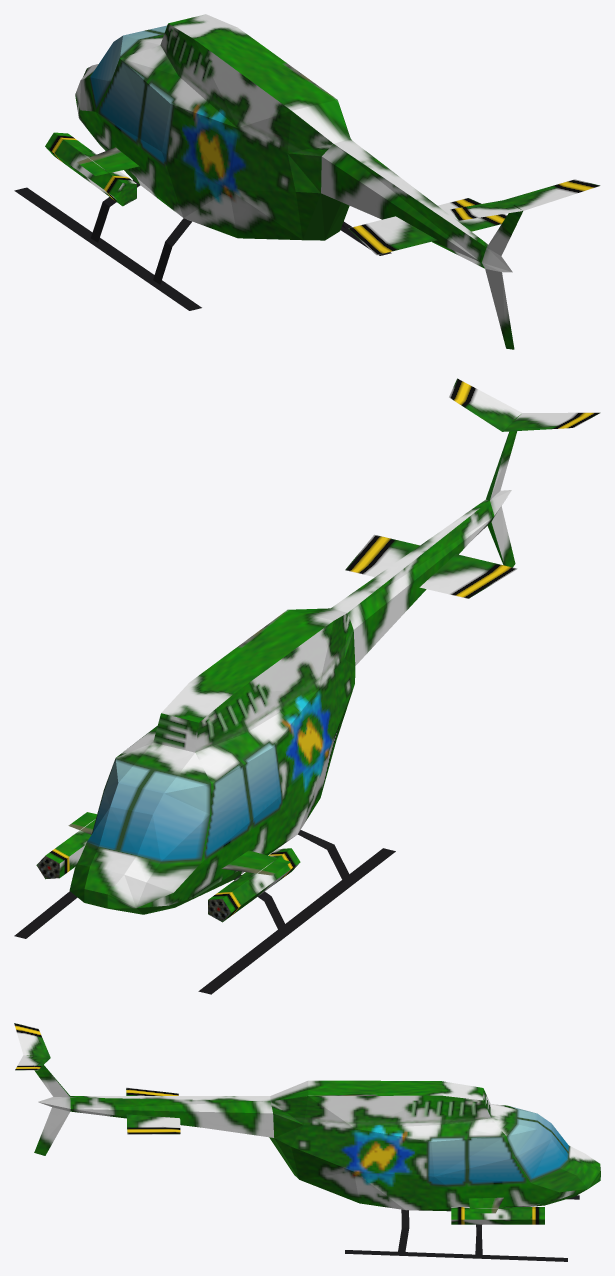
The model's file is asshole.obj.
3 views of the same model, one above another, from view 1: azimuth 30°, elevation 25°; view 2: azimuth 150°, elevation 25°; view 3: azimuth 270°, elevation 25° (orthographic). The views are drawn at different scales.
Parts seen in each view (by area): view 1: Asshole; view 2: Asshole; view 3: Asshole.
Boxes of the visible parts, box(x1,y1,x2,y2) form: Asshole: box(14, 14, 600, 349); Asshole: box(14, 378, 600, 994); Asshole: box(14, 1023, 600, 1261).
Bounding box in the file's own units: 3.27 × 4 × 11.7.
Materials: 1 (1 with a texture image).
